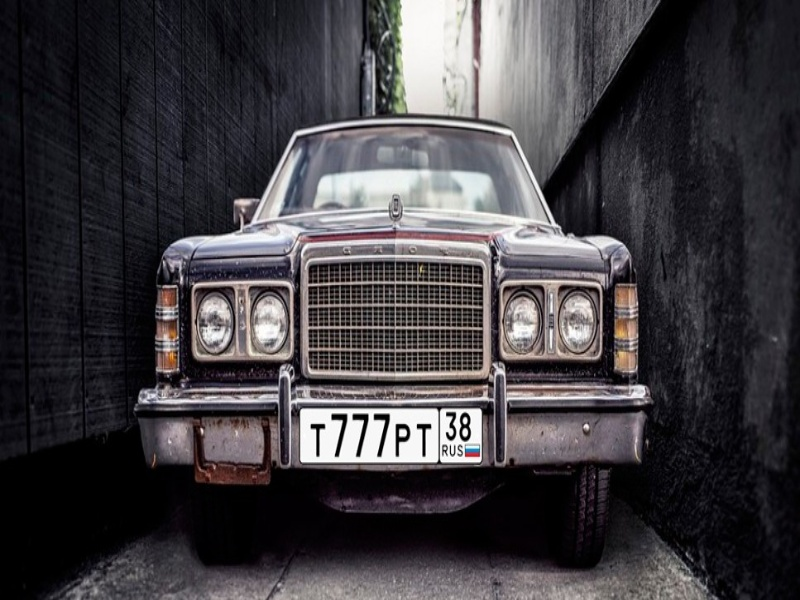car: (134, 116, 651, 572)
plate: (300, 407, 479, 465)
